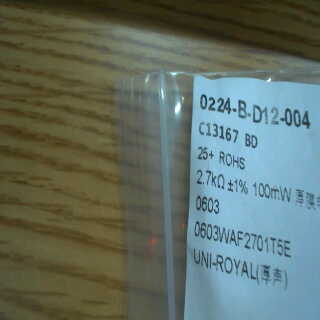2.7kR: (192, 168, 225, 191)
